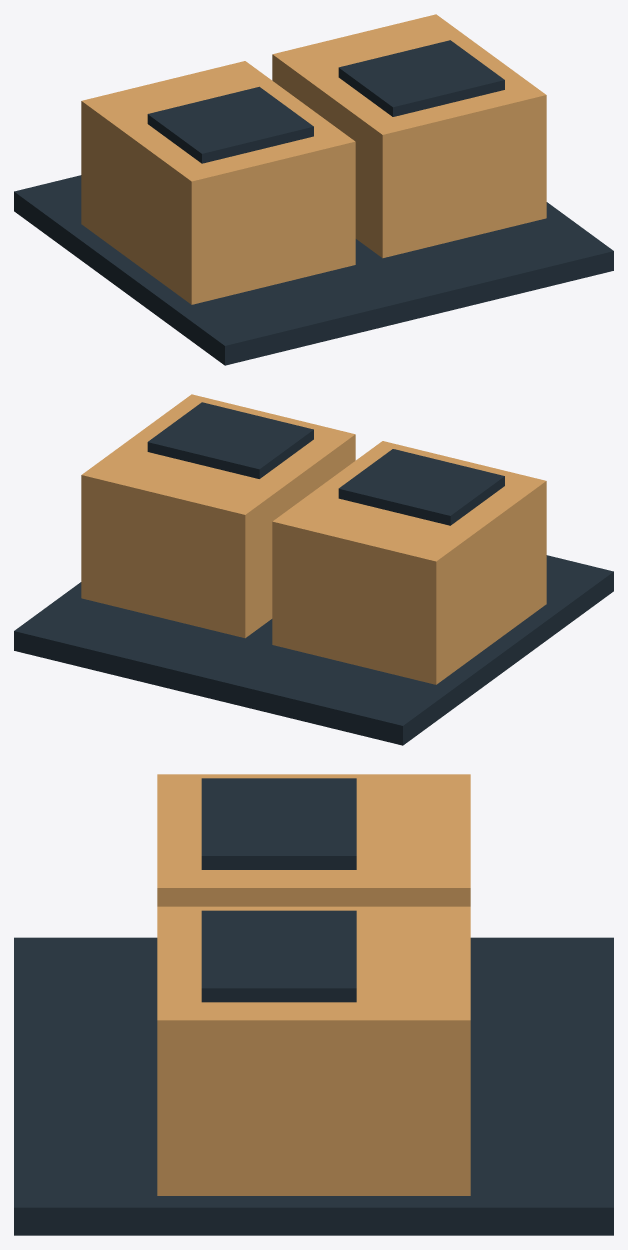
The model's file is battery.glb.
3 views of the same model, one above another, from view 1: azimuth 30°, elevation 25°; view 2: azimuth 150°, elevation 25°; view 3: azimuth 270°, elevation 25° (orthographic). The views are drawn at different scales.
Parts seen in each view (by area): view 1: battery; view 2: battery; view 3: battery.
Part boxes in pixels (left/top/right/bottom): battery: left=14, top=14, right=613, bottom=365; battery: left=14, top=394, right=613, bottom=745; battery: left=14, top=774, right=613, bottom=1235.
Bounding box in the file's own units: 3.3 × 1.24 × 3.1.
